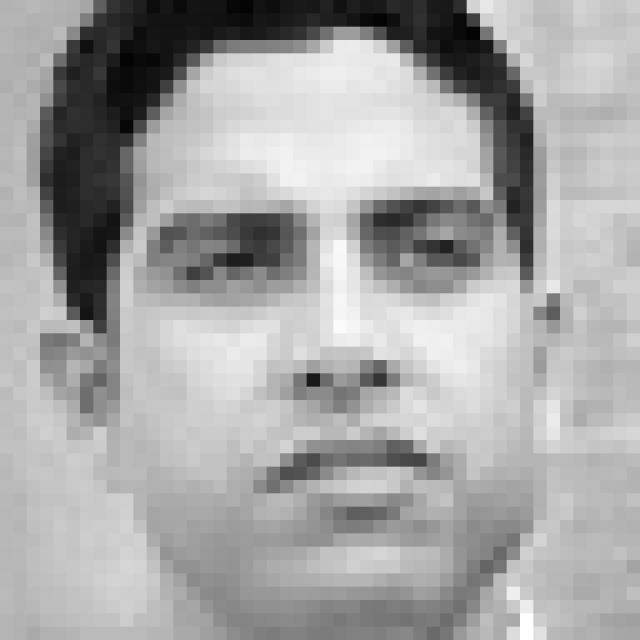neutral: (141, 187, 504, 527)
